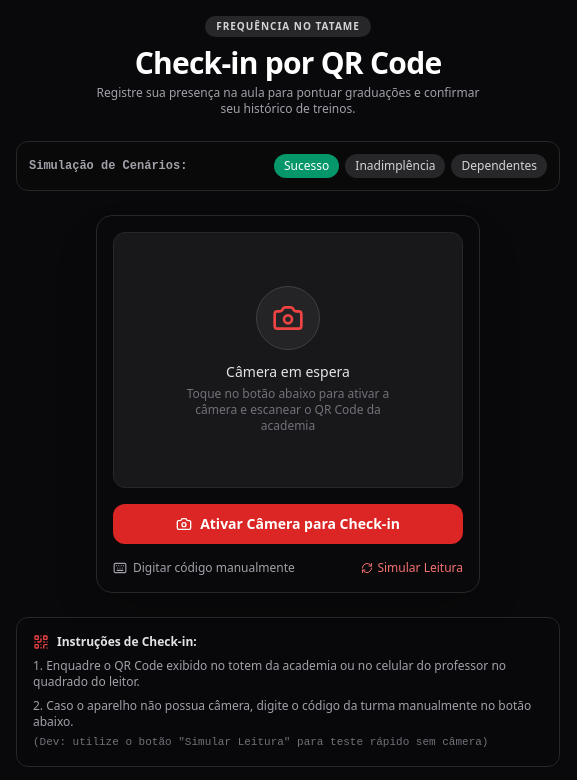
Tela de Check-in por QR Code › deve exibir bloqueio quando aluno for inadimplente
Note: Clica no cenário 'Inadimplência'
Click the button "Inadimplência" at (395, 166), box [345, 154, 446, 178]
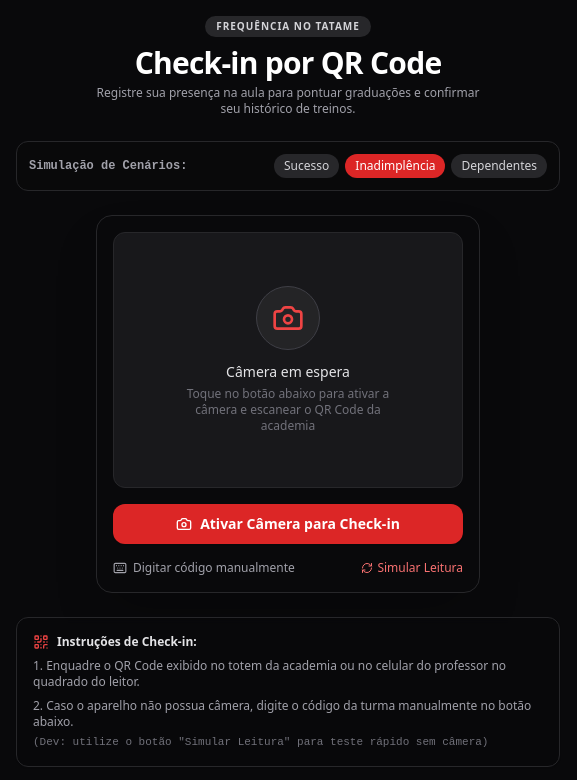
Note: Clica em 'Simular Leitura'
Click the button "Simular Leitura" at (412, 568), box [361, 560, 463, 576]
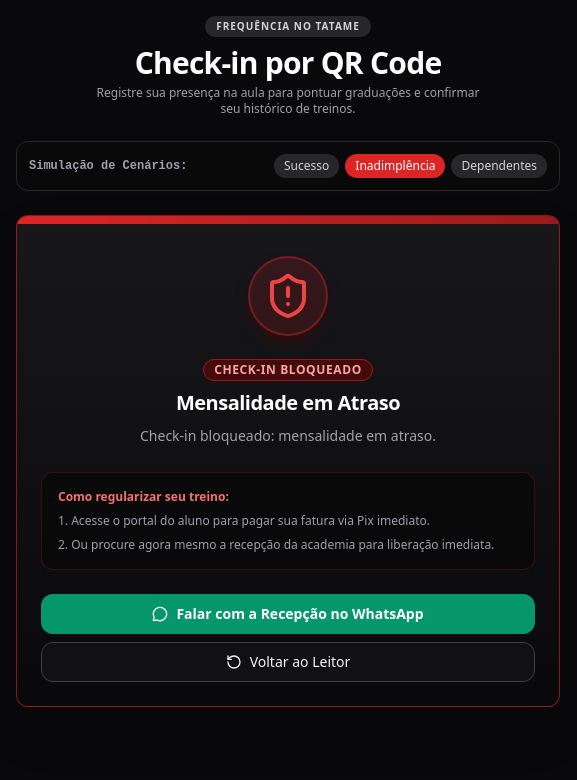
Result: the text "Check-in Bloqueado" is shown at [203, 359, 373, 381]
Result: the heading "Mensalidade em Atraso" is shown at [176, 389, 400, 416]
Result: the button "Falar com a Recepção no WhatsApp" is shown at [41, 594, 535, 634]
